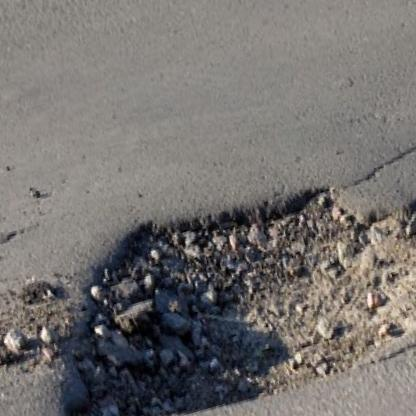pothole: (14, 138, 416, 416)
